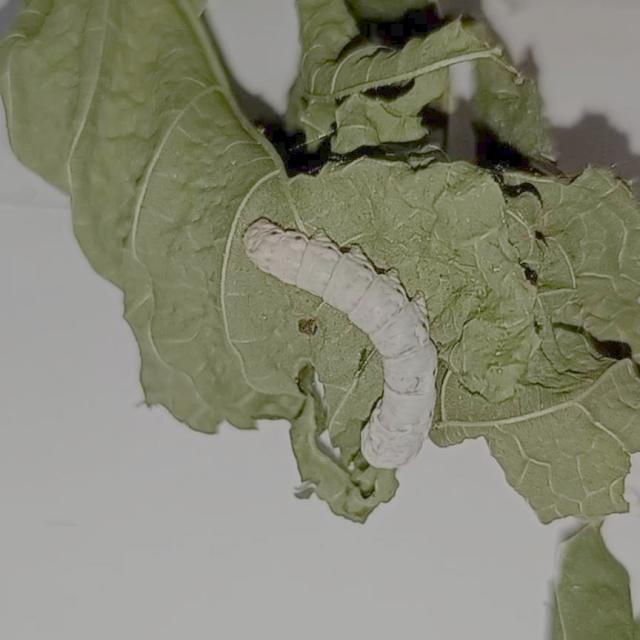Healthy: (205, 188, 472, 520)
